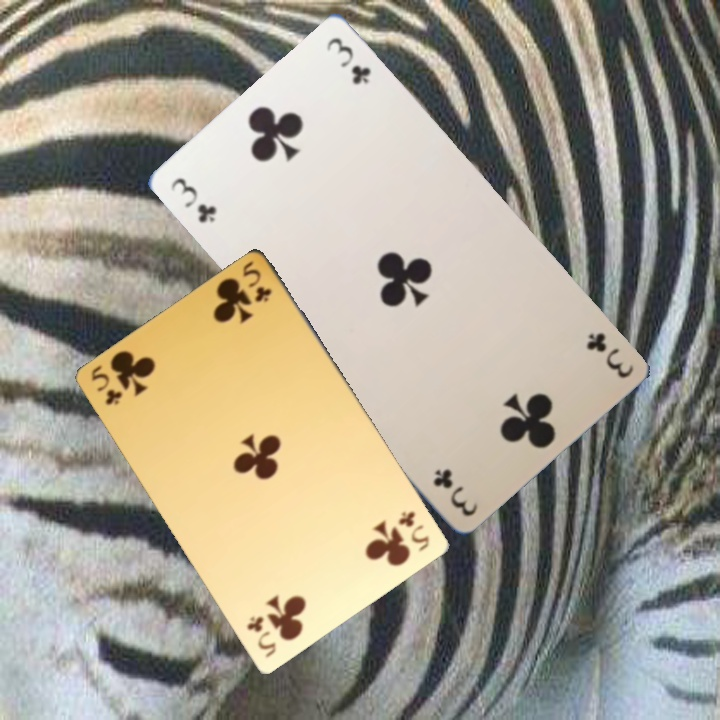3c: (159, 164, 224, 232), (574, 319, 638, 387), (316, 26, 380, 94)
5c: (86, 362, 132, 418), (241, 608, 287, 664), (237, 258, 283, 313), (392, 504, 438, 559)
